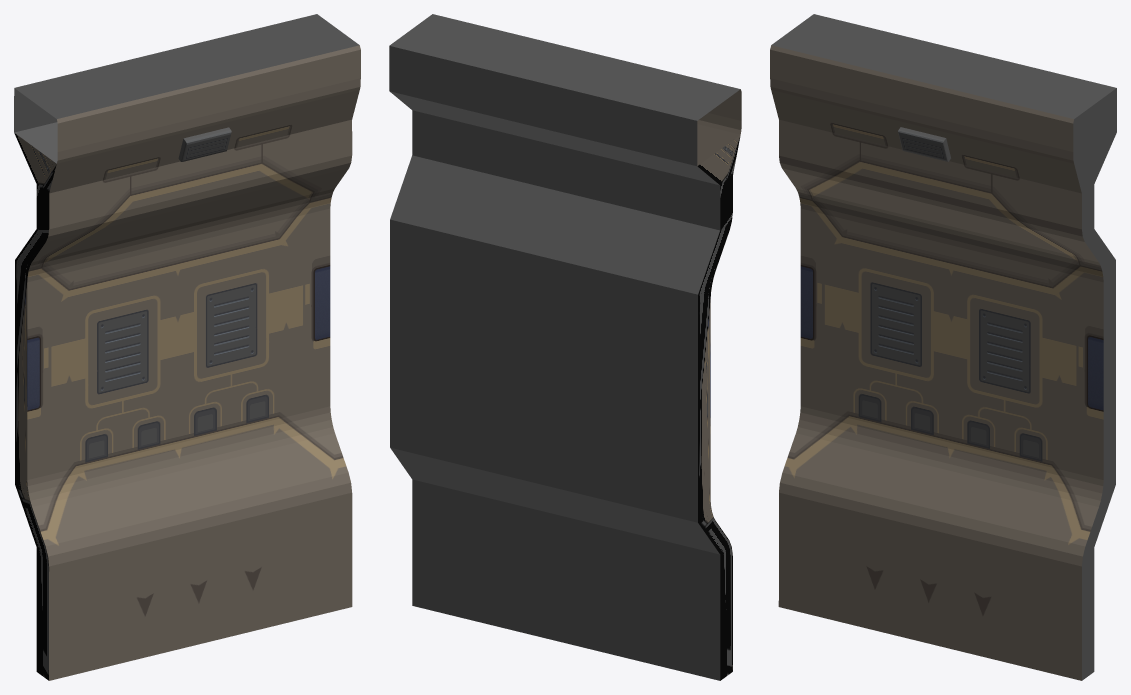
File: Scifi_Wall_2.glb
3 views of the same model, side by side, from view 1: azimuth 30°, elevation 25°; view 2: azimuth 150°, elevation 25°; view 3: azimuth 330°, elevation 25° (orthographic).
Parts seen in each view (by area): view 1: Scifi_Wall_2.001; view 2: Scifi_Wall_2.001; view 3: Scifi_Wall_2.001.
Boxes of the visible parts, x1,y1,x2,y2 form: Scifi_Wall_2.001: [14, 14, 360, 680]; Scifi_Wall_2.001: [389, 14, 741, 680]; Scifi_Wall_2.001: [770, 14, 1116, 680].
Size of the model in its own units: 1.41 by 2.53 by 0.3558.
Materials: 1 (1 with a texture image).
